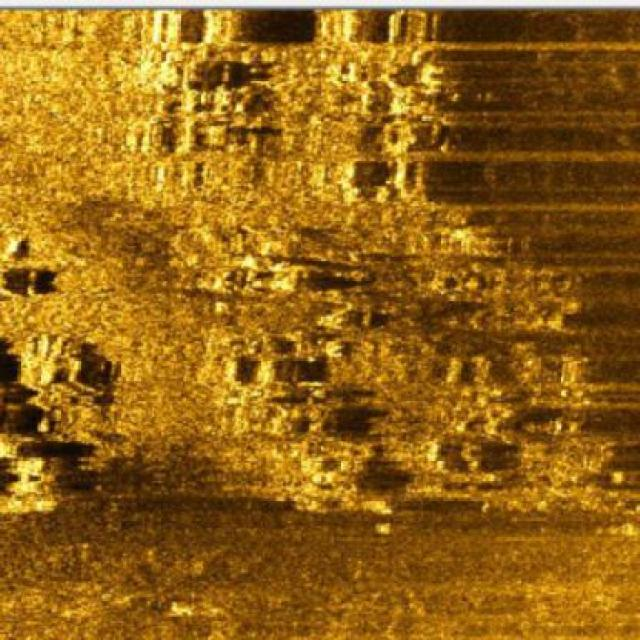bedrock group: (0, 3, 595, 514)
